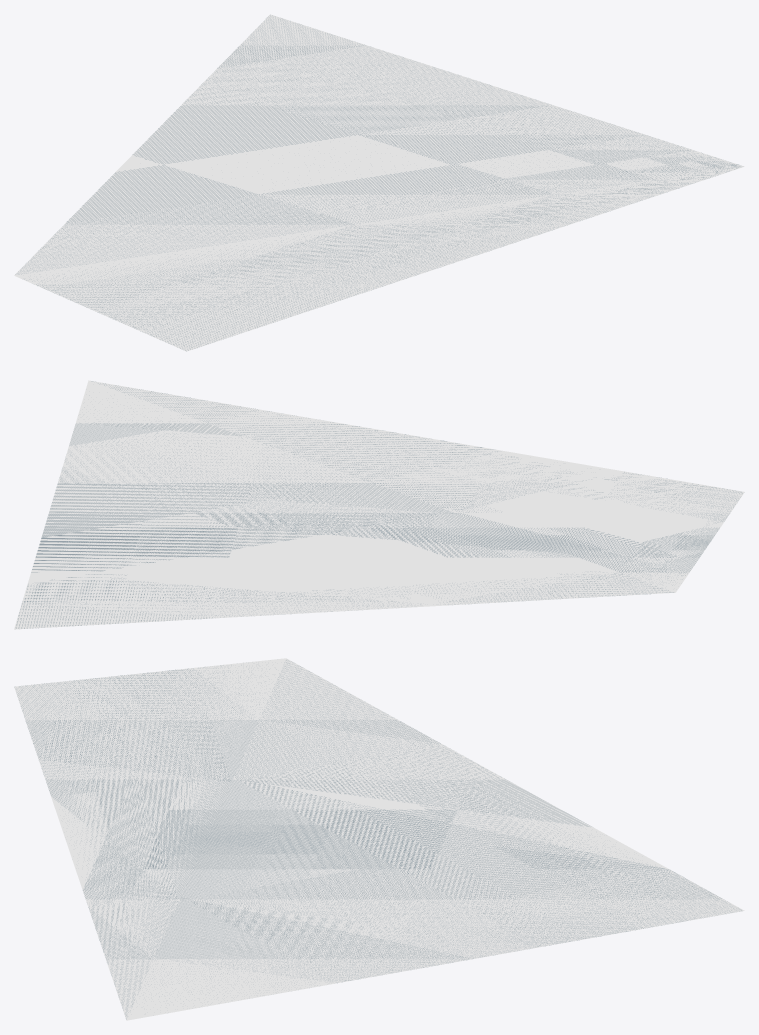
The picture shows the model from 3 angles, top to bottom: view 1: azimuth 30°, elevation 25°; view 2: azimuth 150°, elevation 25°; view 3: azimuth 270°, elevation 25°; orthographic projection. The views are drawn at different scales.
Visible parts, largest first — view 1: Group1; view 2: Group1; view 3: Group1.
Boxes of the visible parts, x1,y1,x2,y2 form: Group1: [14, 14, 744, 351]; Group1: [14, 380, 744, 629]; Group1: [14, 658, 744, 1020].
Size of the model in its own units: 4.6 by 0 by 3.92.
